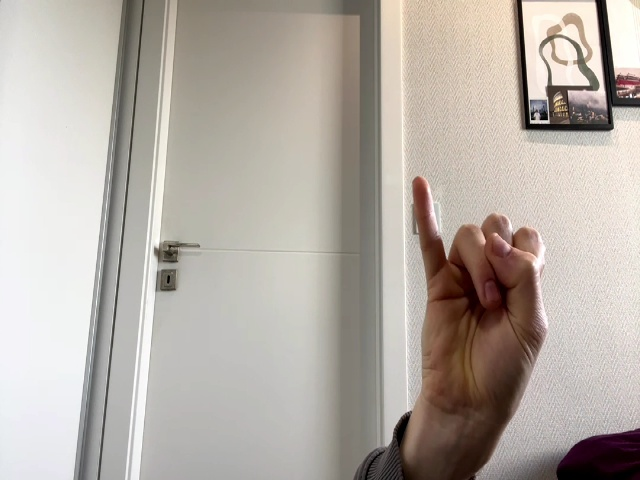I: (412, 176, 550, 418)
